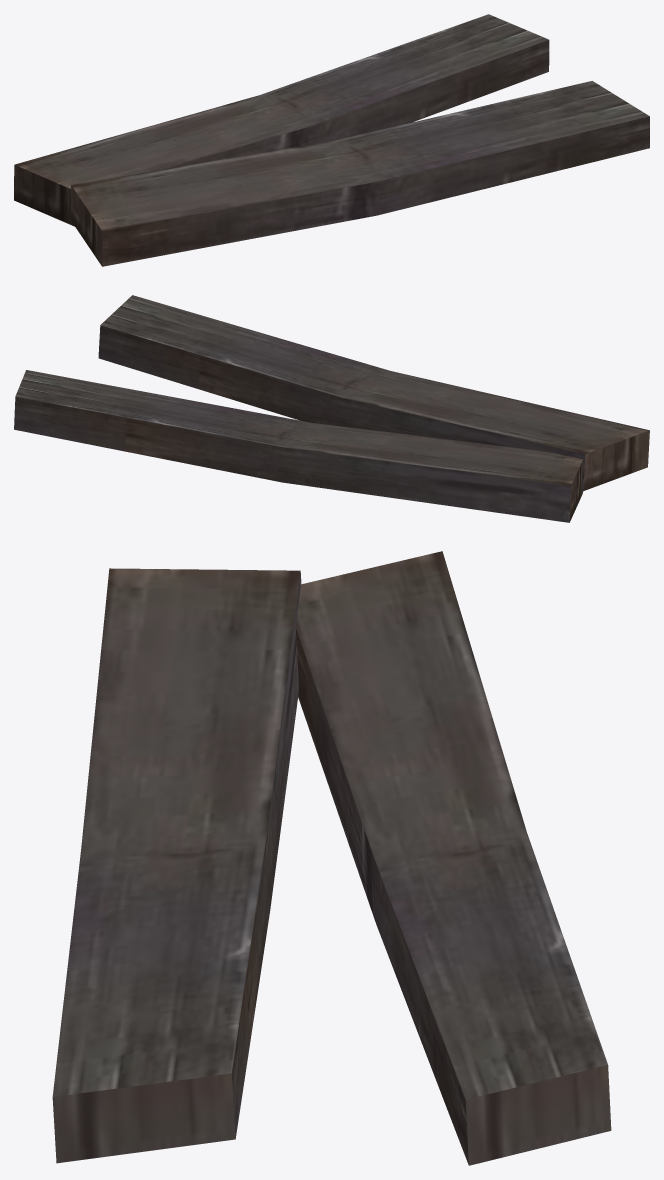
Rendered from Battle05_Other_09.FBX.
The picture shows the model from 3 angles, top to bottom: view 1: azimuth 30°, elevation 25°; view 2: azimuth 150°, elevation 25°; view 3: azimuth 270°, elevation 25°; orthographic projection. The views are drawn at different scales.
Parts seen in each view (by area): view 1: Battle05_Other_09; view 2: Battle05_Other_09; view 3: Battle05_Other_09.
Part boxes in pixels (box(x1,y1,x2,y2)): Battle05_Other_09: box(14, 14, 649, 266); Battle05_Other_09: box(14, 295, 649, 522); Battle05_Other_09: box(52, 551, 611, 1165).
Size of the model in its own units: 6.45 by 0.5989 by 2.89.
